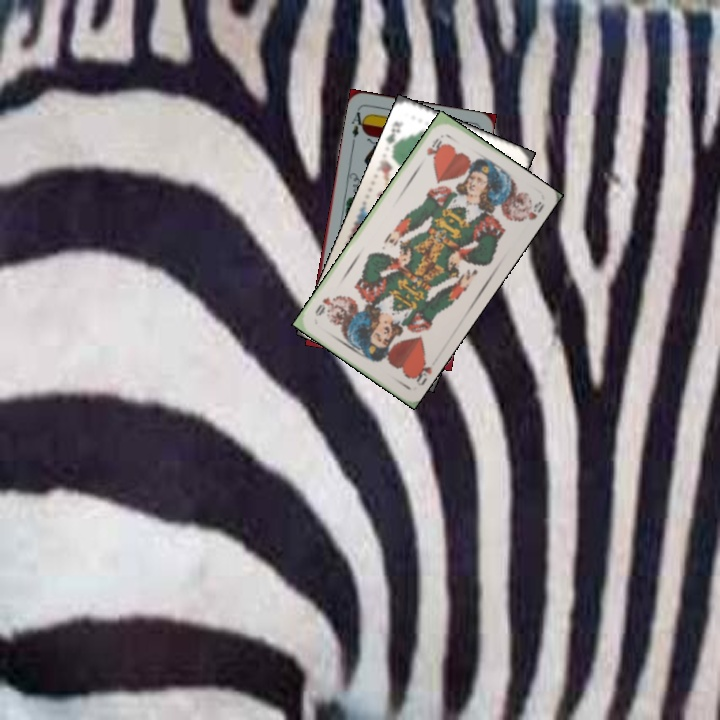EA: (347, 105, 369, 140)
GK: (382, 117, 406, 152)
HO: (407, 352, 434, 389), (422, 134, 445, 161)
